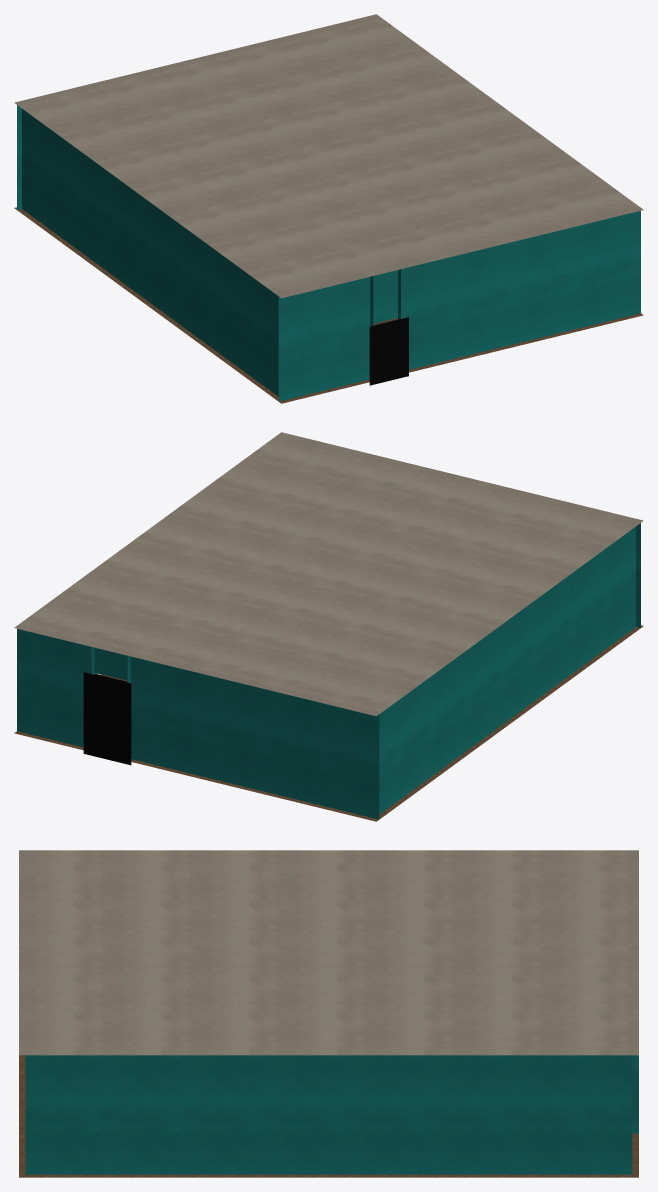
Rendered from rdwe_teal.glb.
The picture shows the model from 3 angles, top to bottom: view 1: azimuth 30°, elevation 25°; view 2: azimuth 150°, elevation 25°; view 3: azimuth 270°, elevation 25°; orthographic projection. The views are drawn at different scales.
Parts seen in each view (by area): view 1: Ceiling_Teal.001, Wall_Teal.001, Carpet_Fleck.001, Void.001; view 2: Ceiling_Teal.001, Wall_Teal.001, Void.001, Carpet_Fleck.001; view 3: Ceiling_Teal.001, Wall_Teal.001, Carpet_Fleck.001.
Part boxes in pixels (x1,y1,x2,y2): Ceiling_Teal.001: (14,14,643,298); Wall_Teal.001: (17,105,640,401); Carpet_Fleck.001: (14,207,643,403); Void.001: (369,317,408,385); Ceiling_Teal.001: (14,432,643,716); Wall_Teal.001: (17,523,640,819); Void.001: (83,672,131,765); Carpet_Fleck.001: (14,625,643,821); Ceiling_Teal.001: (19,850,638,1055); Wall_Teal.001: (25,1055,638,1174); Carpet_Fleck.001: (19,1055,638,1177).
Bounding box in the file's own units: 14.4 × 4.05 × 18.7.
18 materials, 10 textured.
